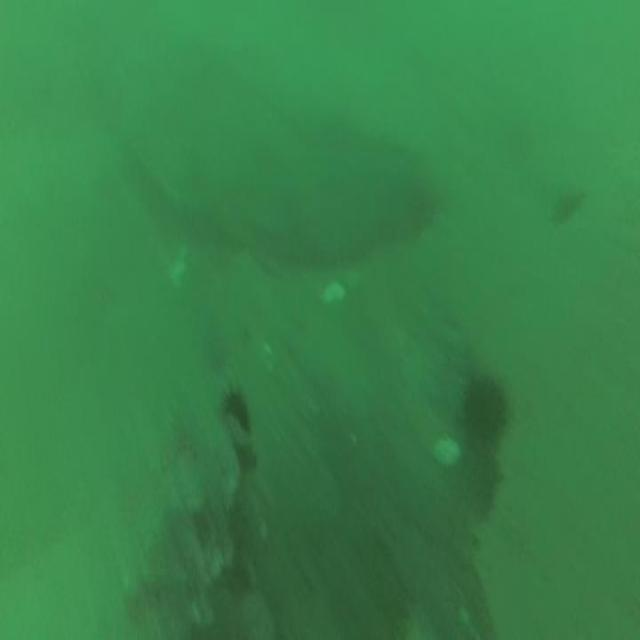echinus: (457, 360, 515, 457), (218, 372, 255, 442)
